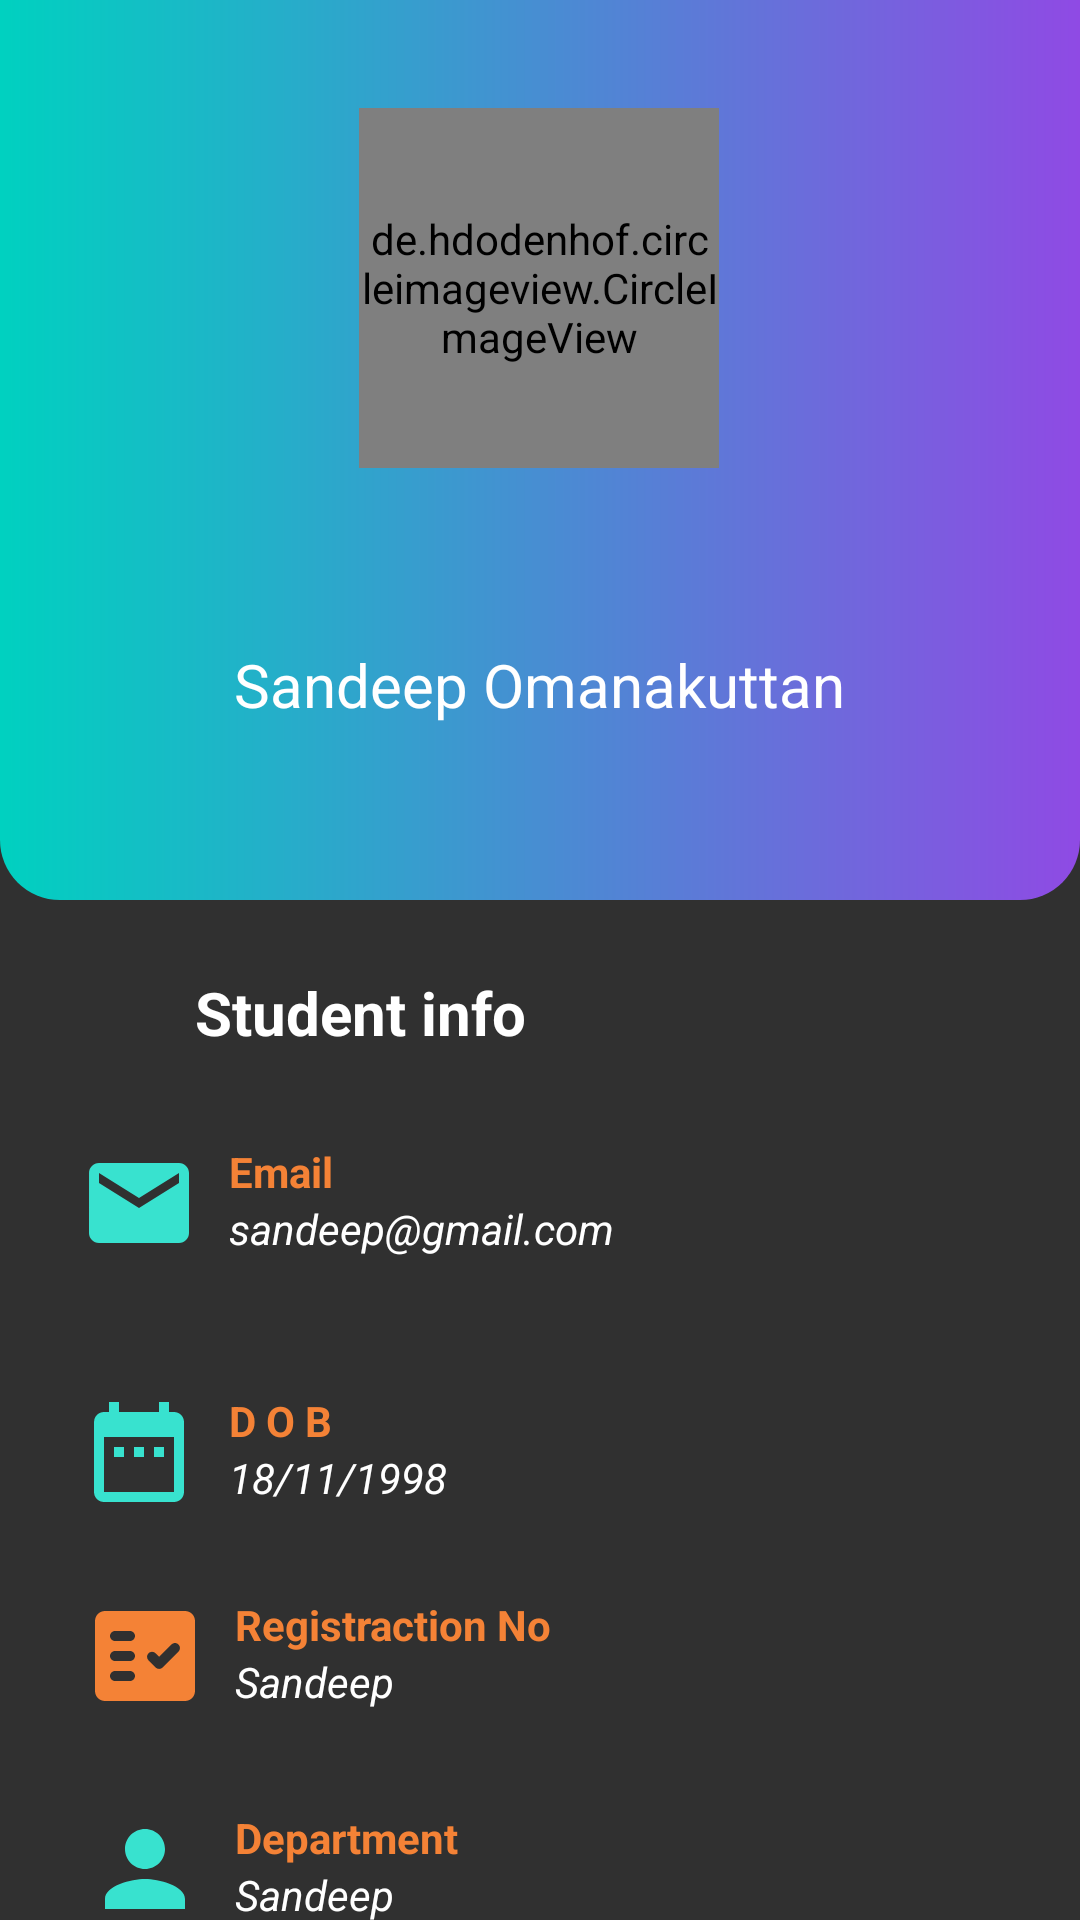

Where to tap for icons on this 1080px x 1920px app screen, as point (x, y):
date: point (139, 1452)
person: point (145, 1869)
